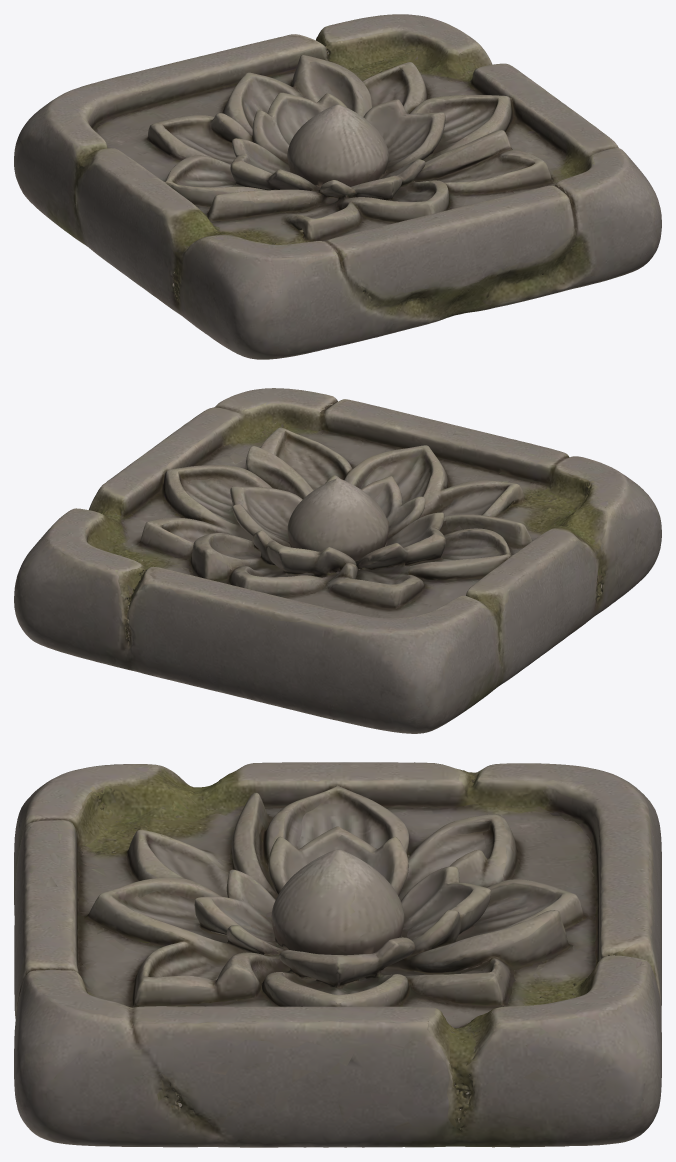
The model's file is carved-lotus-flower-plaque-optimized.glb.
The picture shows the model from 3 angles, top to bottom: view 1: azimuth 30°, elevation 25°; view 2: azimuth 150°, elevation 25°; view 3: azimuth 270°, elevation 25°; orthographic projection. The views are drawn at different scales.
Visible parts, largest first — view 1: world; view 2: world; view 3: world.
Boxes of the visible parts, x1,y1,x2,y2 form: world: [14, 14, 661, 359]; world: [14, 388, 661, 733]; world: [14, 762, 661, 1147].
Size of the model in its own units: 0.4 by 0.1158 by 0.3999.
Materials: 1 (1 with a texture image).
